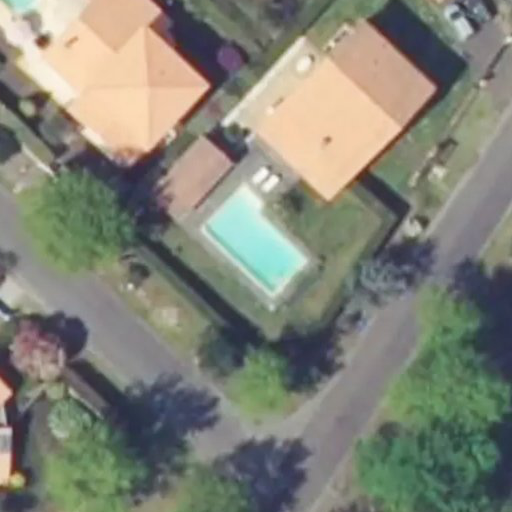pool: (202, 228, 313, 255)
